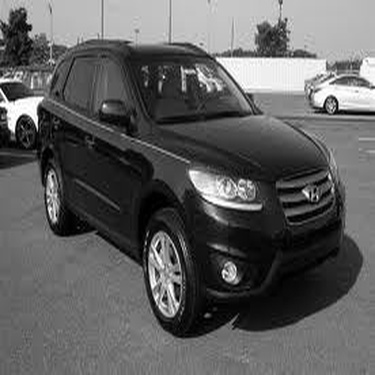car: (31, 30, 350, 346), (1, 75, 47, 152), (305, 71, 372, 115), (309, 67, 356, 91), (299, 70, 332, 90), (1, 117, 13, 147)
